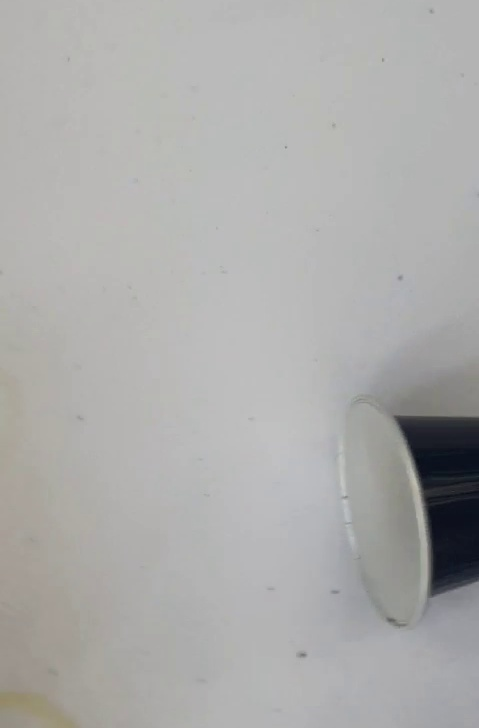capsule_1: (337, 390, 479, 630)
